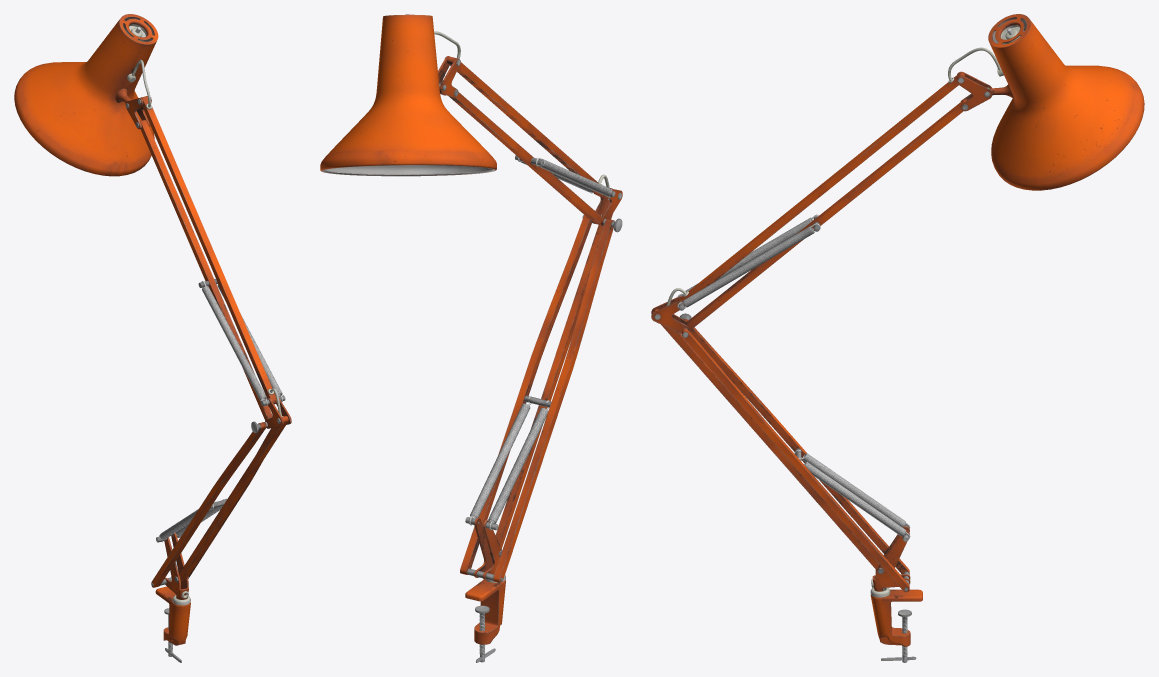
The picture shows the model from 3 angles, left to right: view 1: azimuth 30°, elevation 25°; view 2: azimuth 150°, elevation 25°; view 3: azimuth 270°, elevation 25°; orthographic projection. The views are drawn at different scales.
Visible parts, largest first — view 1: desk_lamp_arm_01; view 2: desk_lamp_arm_01; view 3: desk_lamp_arm_01.
Boxes of the visible parts, <box> form: desk_lamp_arm_01: <box>14,14,291,662</box>; desk_lamp_arm_01: <box>320,14,622,662</box>; desk_lamp_arm_01: <box>651,14,1144,662</box>.
Size of the model in its own units: 0.2017 by 0.8926 by 0.6139.
2 materials, 2 textured.
